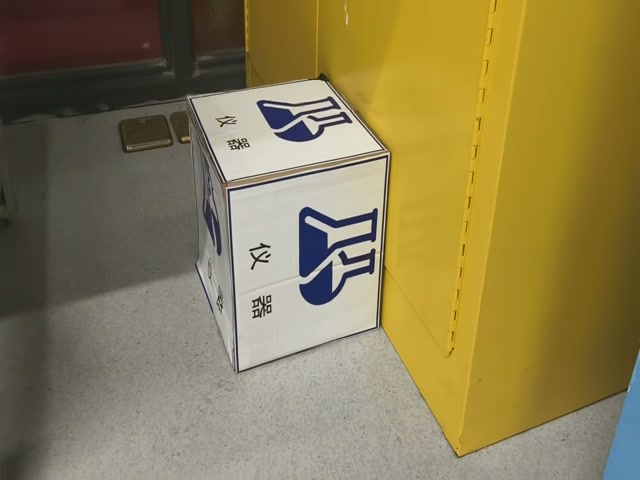Cube_ins: (184, 77, 387, 187)
